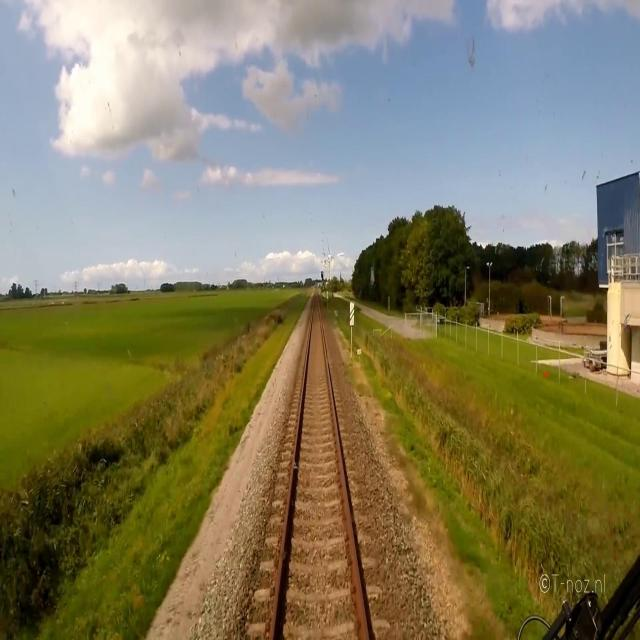rail-track: (274, 290, 364, 639)
